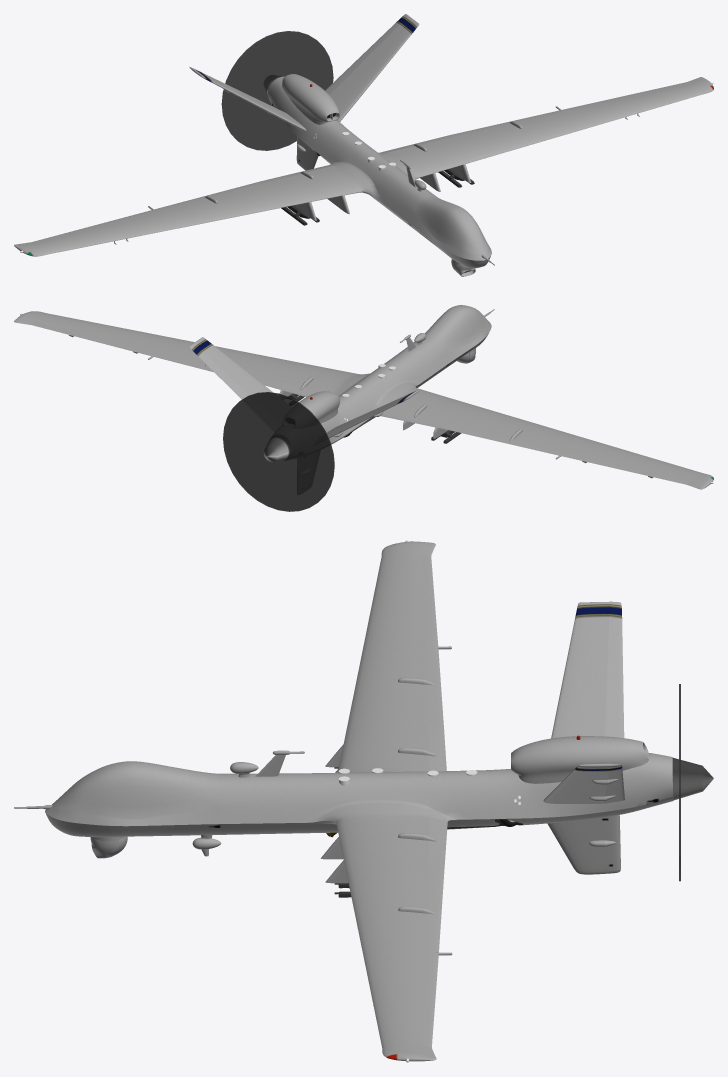
The model's file is MQ9-Reaper.glb.
3 renders of one model, top to bottom at view 1: azimuth 30°, elevation 25°; view 2: azimuth 150°, elevation 25°; view 3: azimuth 270°, elevation 25°, orthographic. The views are drawn at different scales.
Visible parts, largest first — view 1: Fuselage, Cylinder, HStabilizerL, Engine, HStabilizerR, ElevatorL, Antennas; view 2: Fuselage, Cylinder, HStabilizerL, Engine, FlapR2, AileronR, AileronL, FlapR1, ElevatorL, Propeller, FlapL1, FlapL2 (+2 smaller); view 3: Fuselage, HStabilizerR, Engine, VStabilizer, ElevatorR, HStabilizerL, Antennas, FlapL2, Propeller, FlapR2, AileronL, AileronR (+2 smaller).
Part boxes in pixels (box(x1,y1,x2,y2)): Fuselage: box(14, 76, 713, 268); Cylinder: box(221, 31, 333, 150); HStabilizerL: box(329, 16, 419, 121); Engine: box(282, 74, 339, 124); HStabilizerR: box(192, 68, 306, 131); ElevatorL: box(325, 14, 408, 94); Antennas: box(114, 113, 639, 265); Fuselage: box(14, 305, 713, 489); Cylinder: box(223, 392, 334, 511); HStabilizerL: box(193, 337, 273, 395); Engine: box(299, 391, 339, 423); FlapR2: box(450, 424, 563, 455); AileronR: box(555, 451, 689, 484); AileronL: box(31, 321, 157, 359); FlapR1: box(381, 408, 454, 430); ElevatorL: box(189, 344, 249, 399); Propeller: box(263, 437, 289, 462); FlapL1: box(261, 378, 320, 396); FlapL2: box(154, 352, 264, 382); Fuselage: box(45, 541, 673, 1061); HStabilizerR: box(551, 601, 609, 738); Engine: box(511, 736, 648, 783); VStabilizer: box(548, 818, 620, 874); ElevatorR: box(604, 601, 624, 738); HStabilizerL: box(543, 763, 610, 803); Antennas: box(14, 750, 477, 1005); FlapL2: box(424, 868, 444, 952); Propeller: box(672, 757, 713, 800); FlapR2: box(423, 646, 443, 729); AileronL: box(422, 951, 452, 1047); AileronR: box(421, 554, 451, 649).
Bounding box in the file's own units: 14.25 × 2.45 × 8.1.
9 materials, 8 textured.
